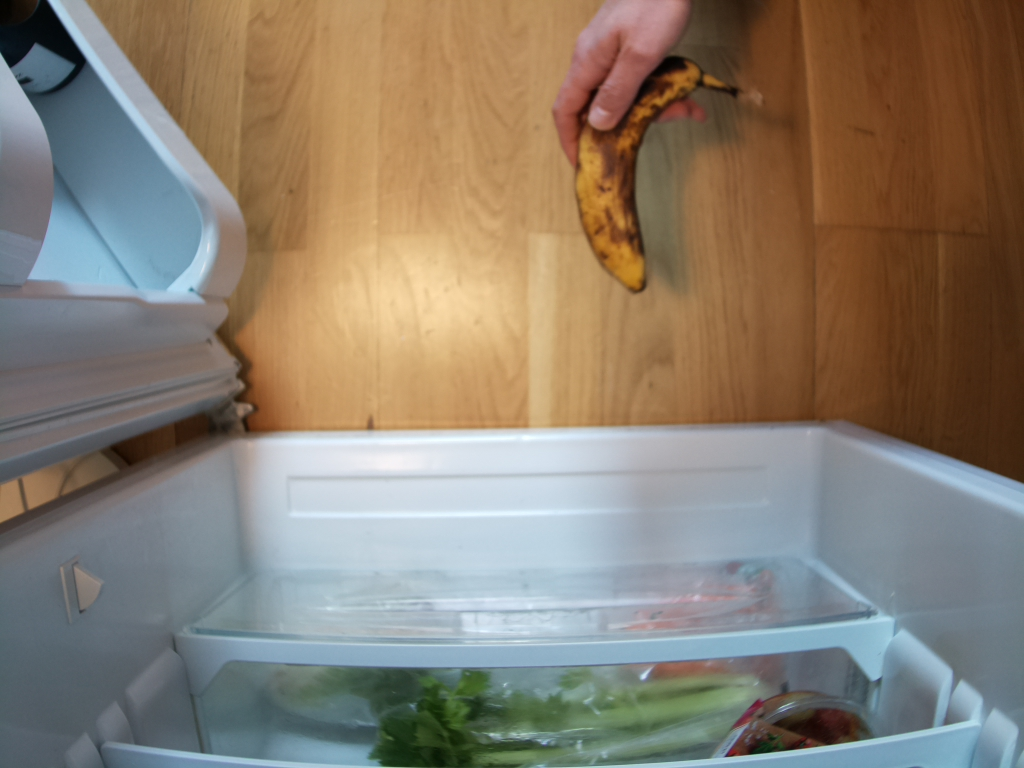banana-overripe: (573, 56, 761, 296)
